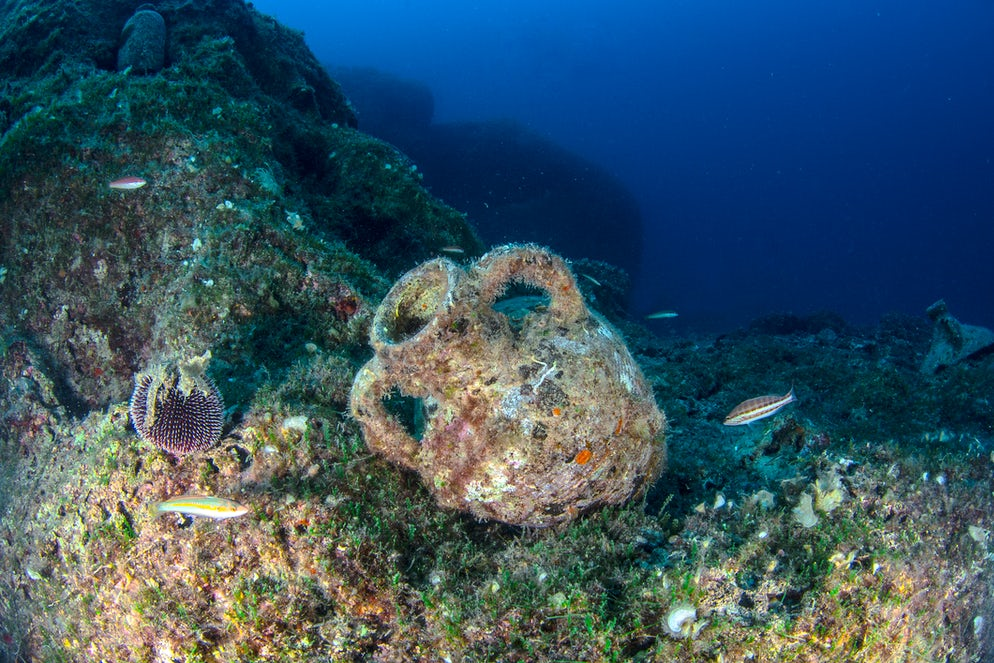amphora: (347, 239, 677, 529), (922, 297, 994, 377)
